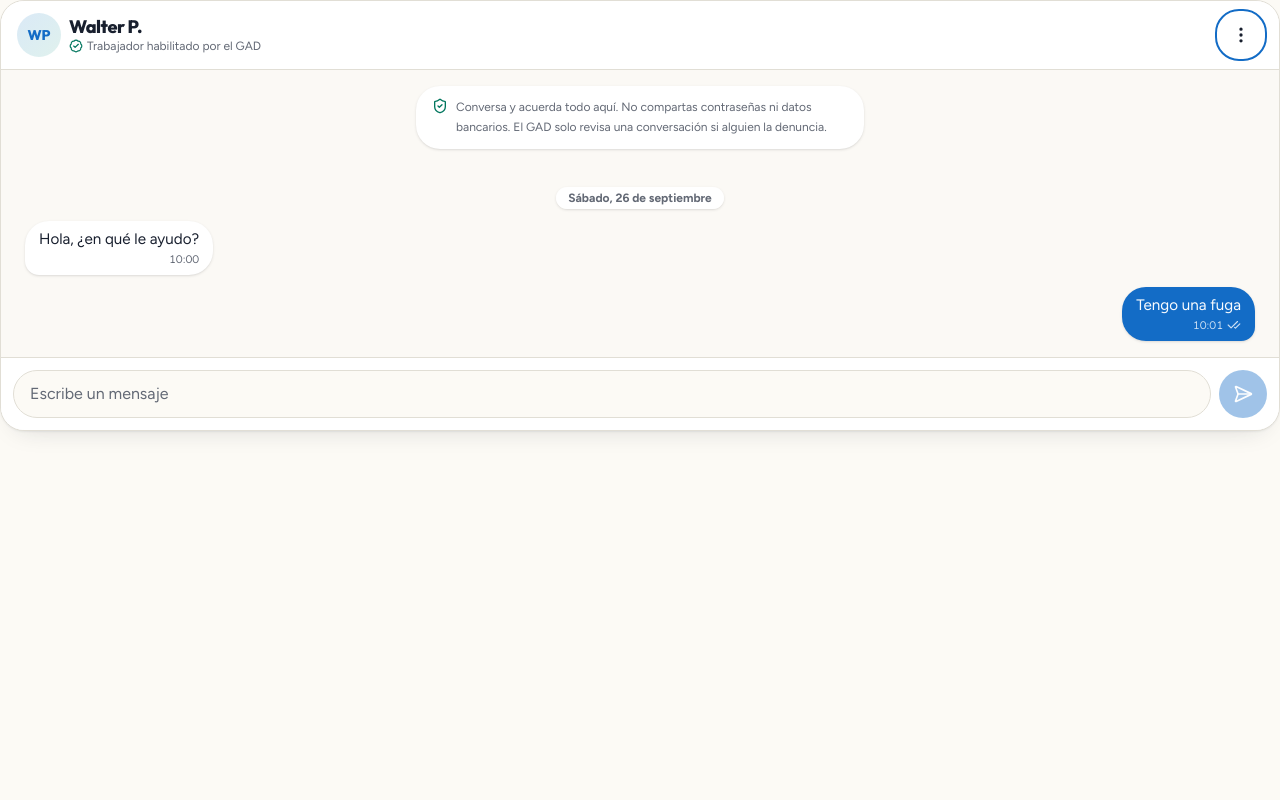
Test: ChatThread › bloquear pide confirmación y explica qué pasa
Press ArrowDown in the button named "Más opciones", box [1219,13,1263,57]
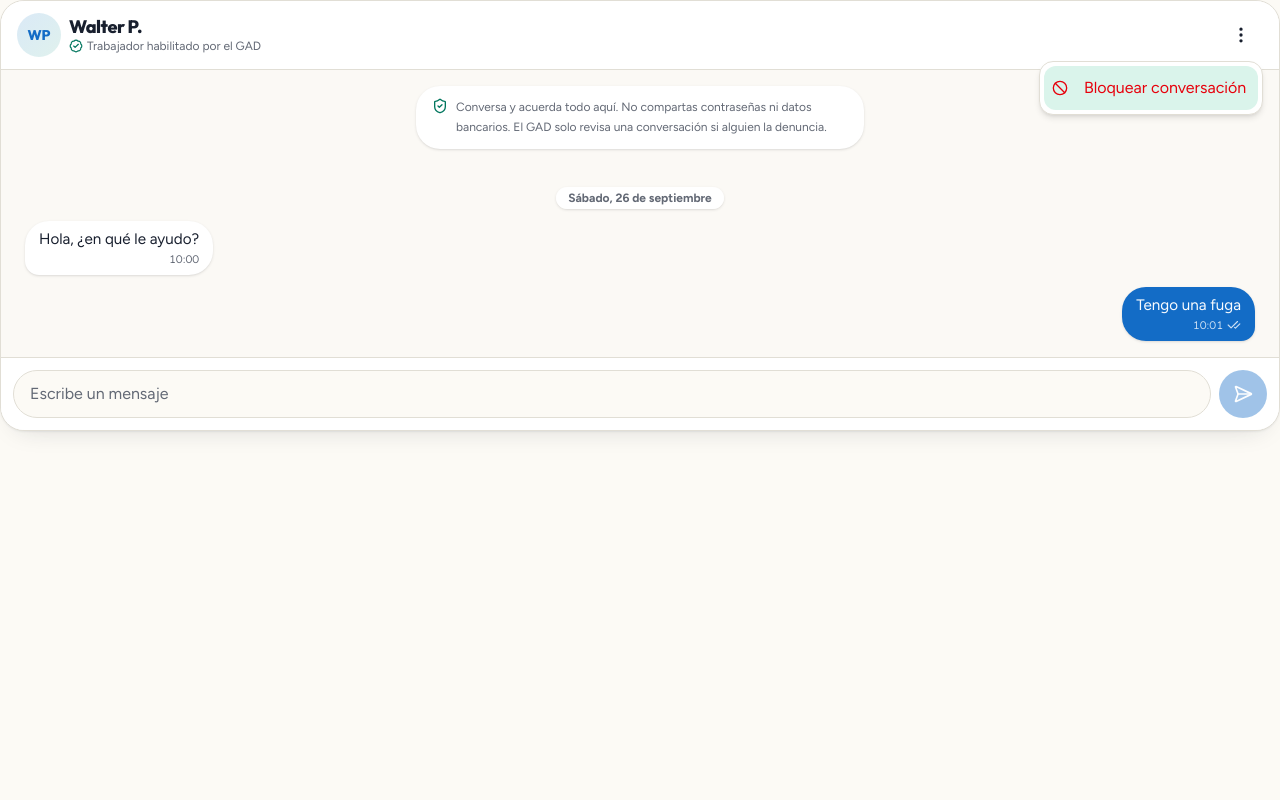
Click the menu item "Bloquear conversación" at (1151, 88), box [1044,66,1258,110]
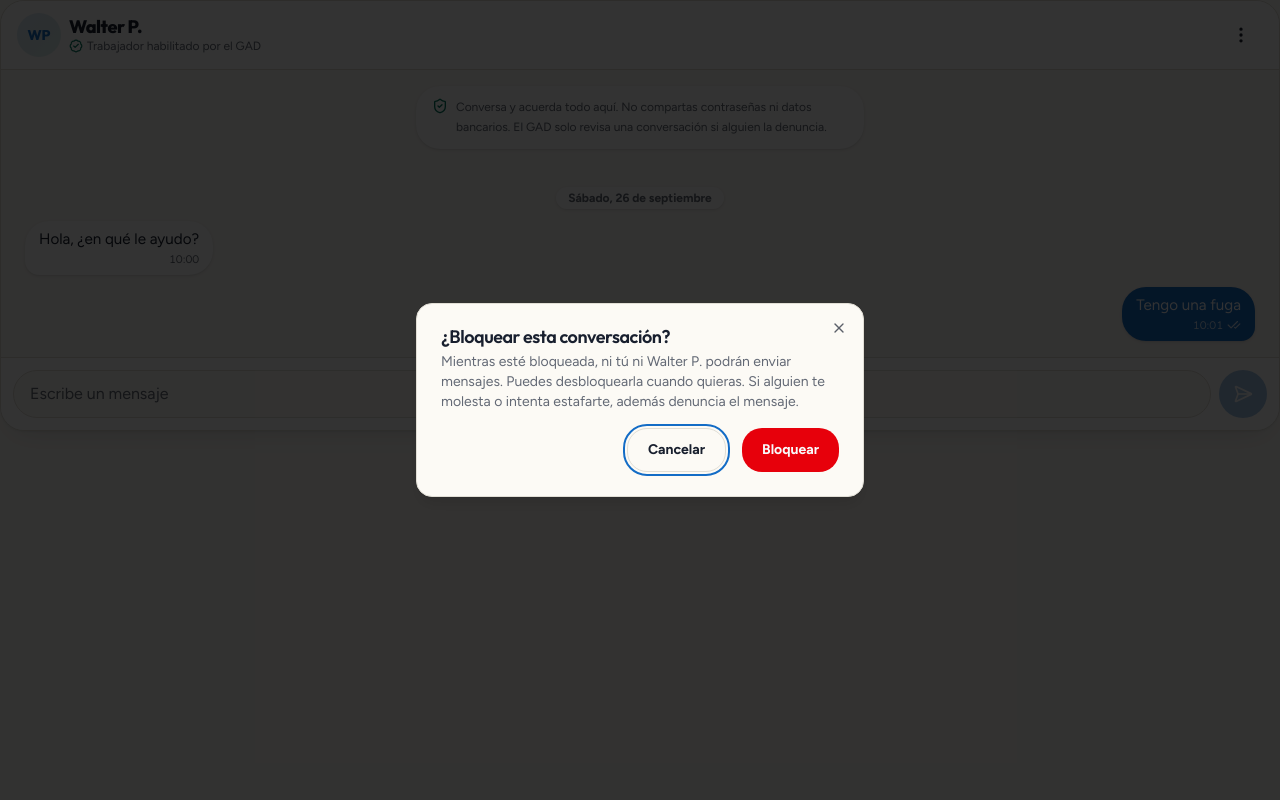
Check: the heading "¿Bloquear esta conversación?" is shown, box [441,325,670,348]
